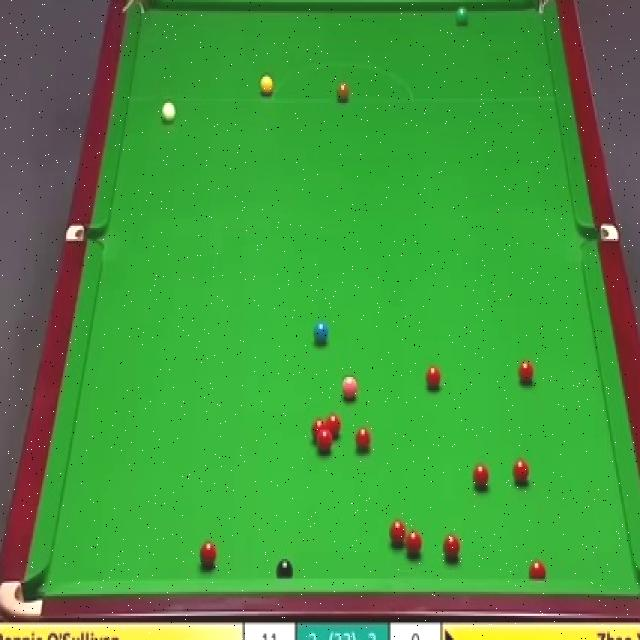black-ball: (275, 558, 296, 581)
blue-ball: (312, 320, 330, 343)
brown-ball: (336, 78, 349, 101)
green-ball: (454, 6, 470, 27)
pink-ball: (341, 376, 359, 403)
red-ball: (442, 534, 462, 564), (198, 539, 217, 569), (351, 424, 372, 451), (472, 463, 492, 491), (427, 364, 447, 392), (388, 520, 407, 548), (406, 527, 422, 559), (513, 458, 531, 485), (518, 359, 534, 386), (311, 418, 326, 446), (326, 414, 341, 439), (528, 559, 547, 578), (317, 433, 333, 454)
white-ball: (160, 102, 176, 120)
yellow-ball: (259, 77, 272, 95)
